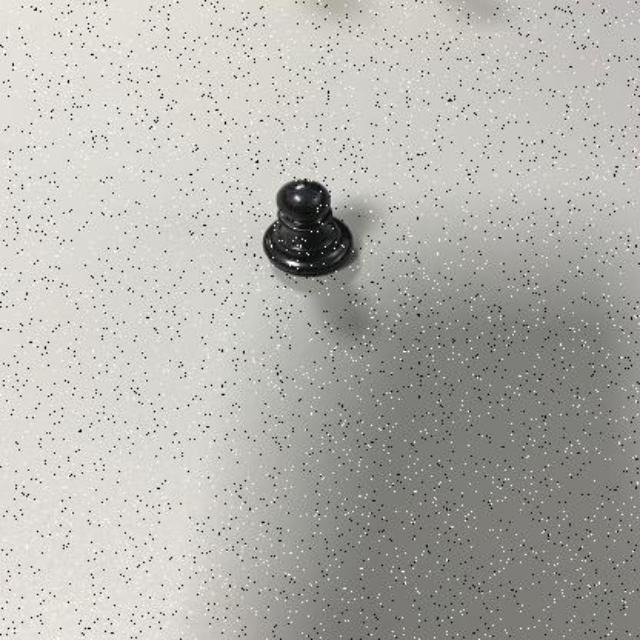black-pawn: (261, 178, 356, 278)
